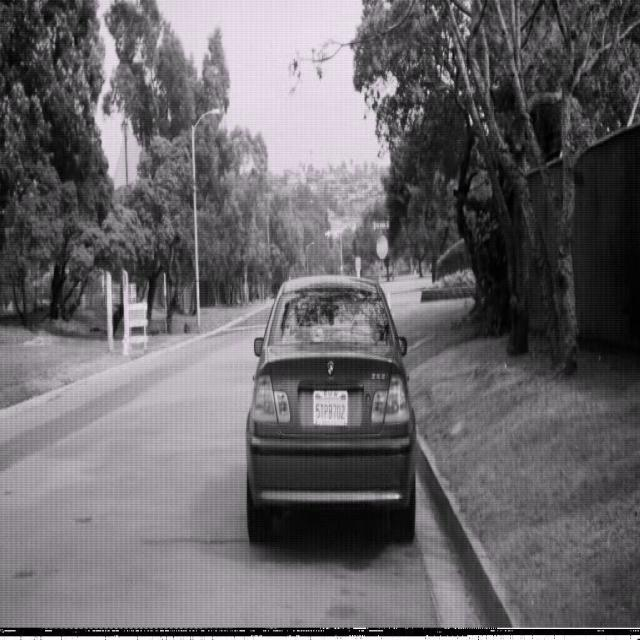stop: (375, 233, 389, 260)
